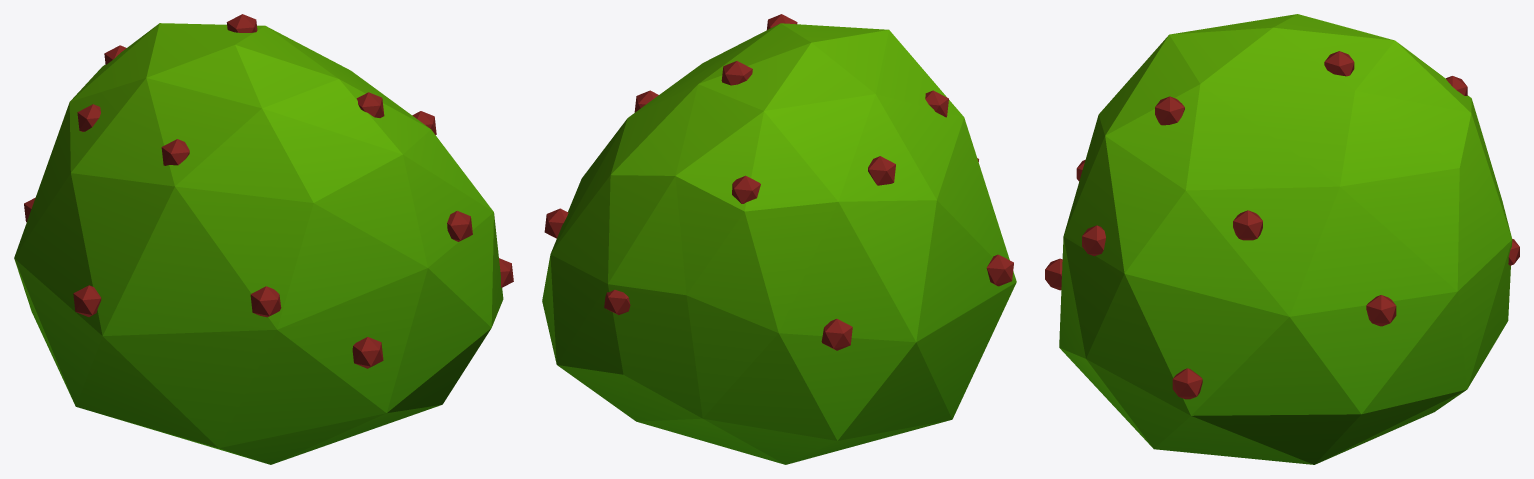
File: bush_3.glb
The picture shows the model from 3 angles, left to right: view 1: azimuth 30°, elevation 25°; view 2: azimuth 150°, elevation 25°; view 3: azimuth 270°, elevation 25°; orthographic projection.
Parts seen in each view (by area): view 1: bush_3; view 2: bush_3; view 3: bush_3.
Part boxes in pixels (x1,y1,x2,y2): bush_3: (14,14,513,464); bush_3: (542,14,1016,464); bush_3: (1045,14,1519,464).
Bounding box in the file's own units: 1.52 × 1.34 × 1.51.
1 material, 1 textured.
